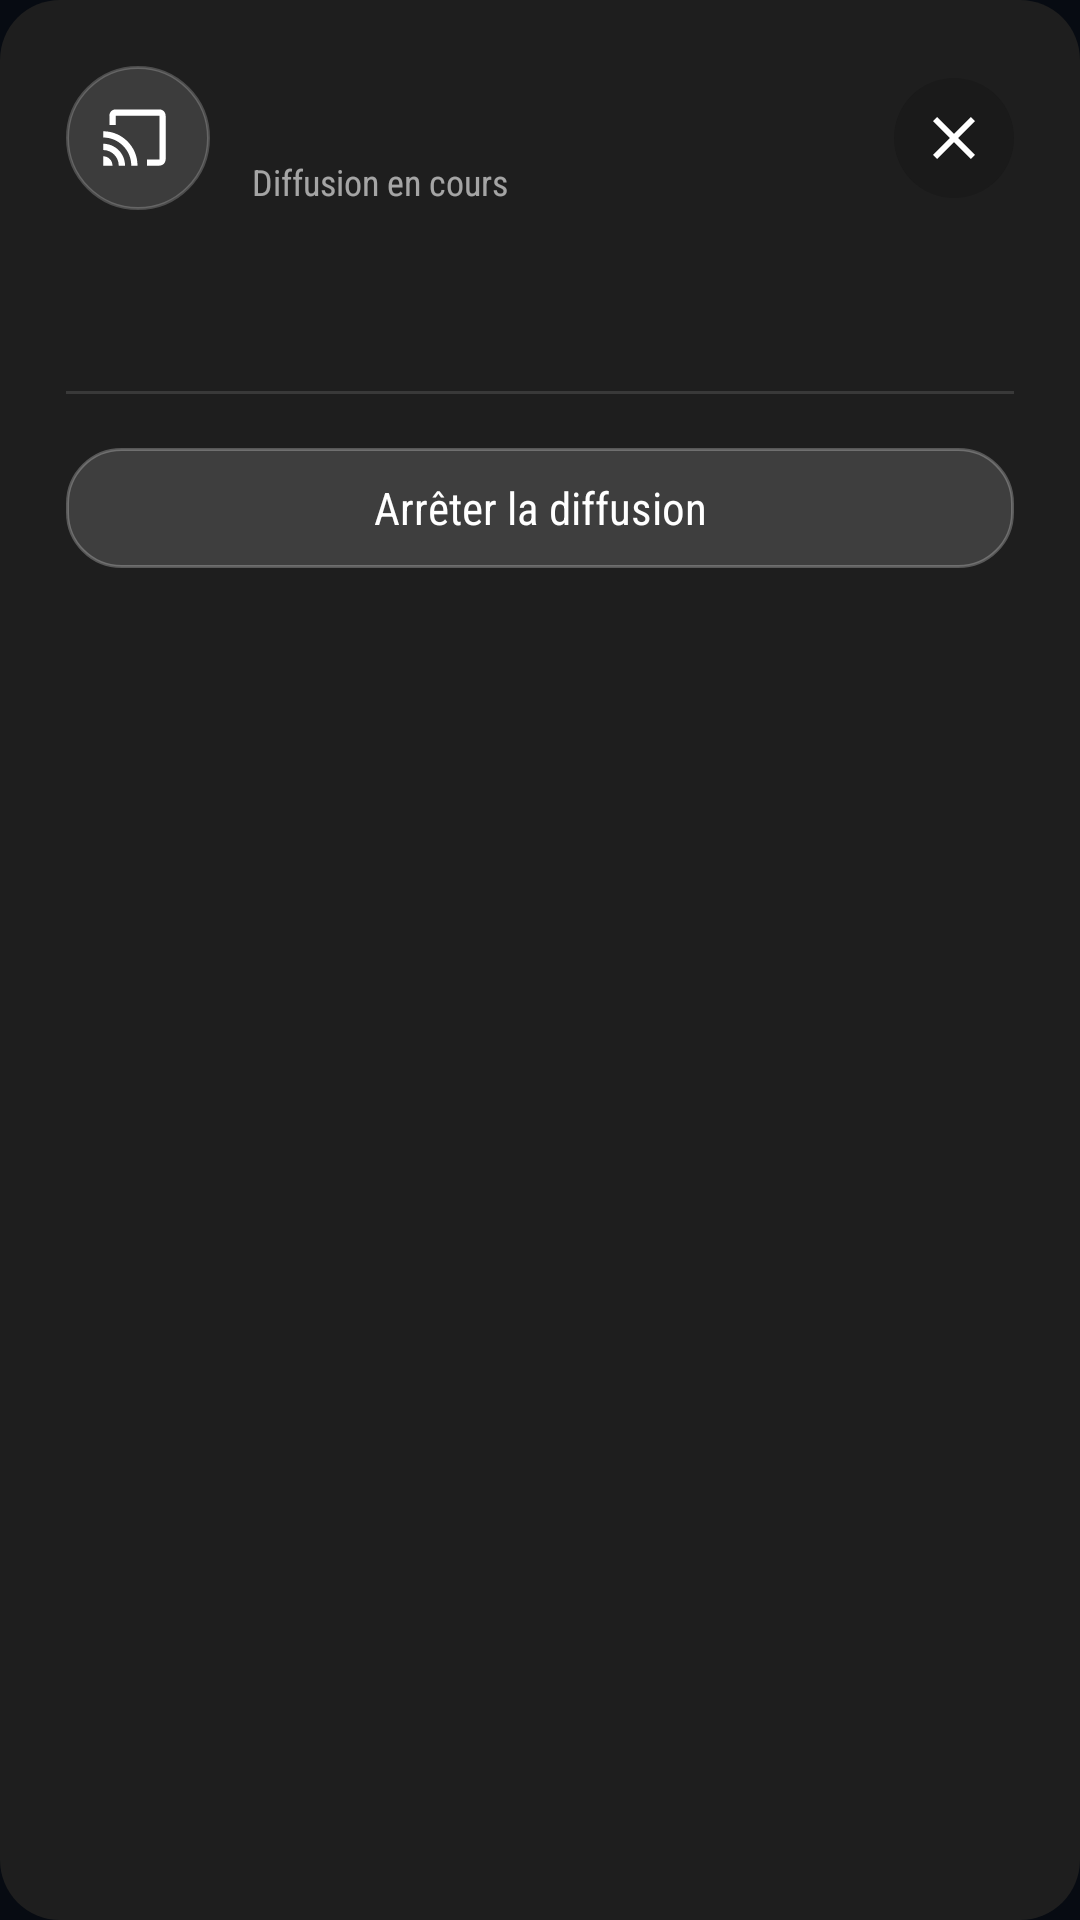

Screen size 1080x1920. Icon name, then its box in pixels as (x1, y1, x2, y2):
cast: (103, 109, 166, 166)
Fermer: (933, 117, 975, 159)
